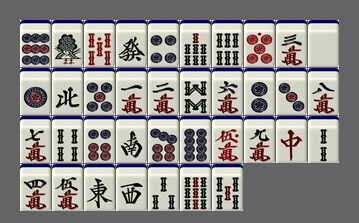0m: (212, 116, 243, 163)
0p: (244, 20, 275, 67)
0s: (84, 20, 115, 67)
1m: (116, 68, 147, 115)
1p: (20, 68, 51, 115)
1s: (52, 20, 83, 67)
1z: (84, 164, 115, 211)
2m: (148, 68, 179, 115)
2p: (244, 68, 275, 115)
2s: (308, 116, 339, 163)
2z: (116, 116, 147, 163)
3m: (276, 20, 307, 67)
3p: (276, 68, 307, 115)
3s: (148, 164, 179, 211)
3z: (116, 164, 147, 211)
4m: (20, 164, 51, 211)
4p: (148, 20, 179, 67)
4s: (52, 116, 83, 163)
4z: (52, 68, 83, 115)
5m: (52, 164, 83, 211)
5p: (84, 68, 115, 115)
5s: (212, 164, 243, 211)
5z: (308, 20, 339, 67)
6m: (212, 68, 243, 115)
6p: (84, 116, 115, 163)
6s: (212, 20, 243, 67)
6z: (116, 20, 147, 67)
7m: (20, 116, 51, 163)
7p: (148, 116, 179, 163)
7s: (180, 20, 211, 67)
7z: (276, 116, 307, 163)
8m: (308, 68, 339, 115)
8p: (180, 116, 211, 163)
8s: (180, 68, 211, 115)
9m: (244, 116, 275, 163)
9p: (20, 20, 51, 67)
9s: (180, 164, 211, 211)
